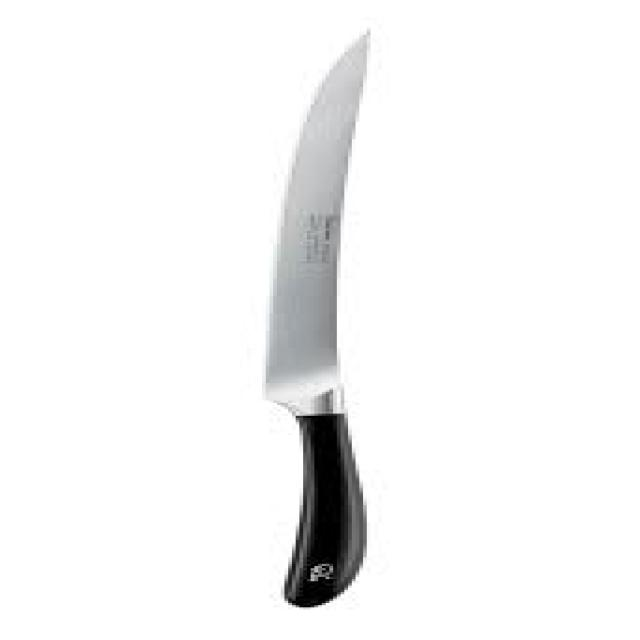knives: (255, 24, 378, 609)
